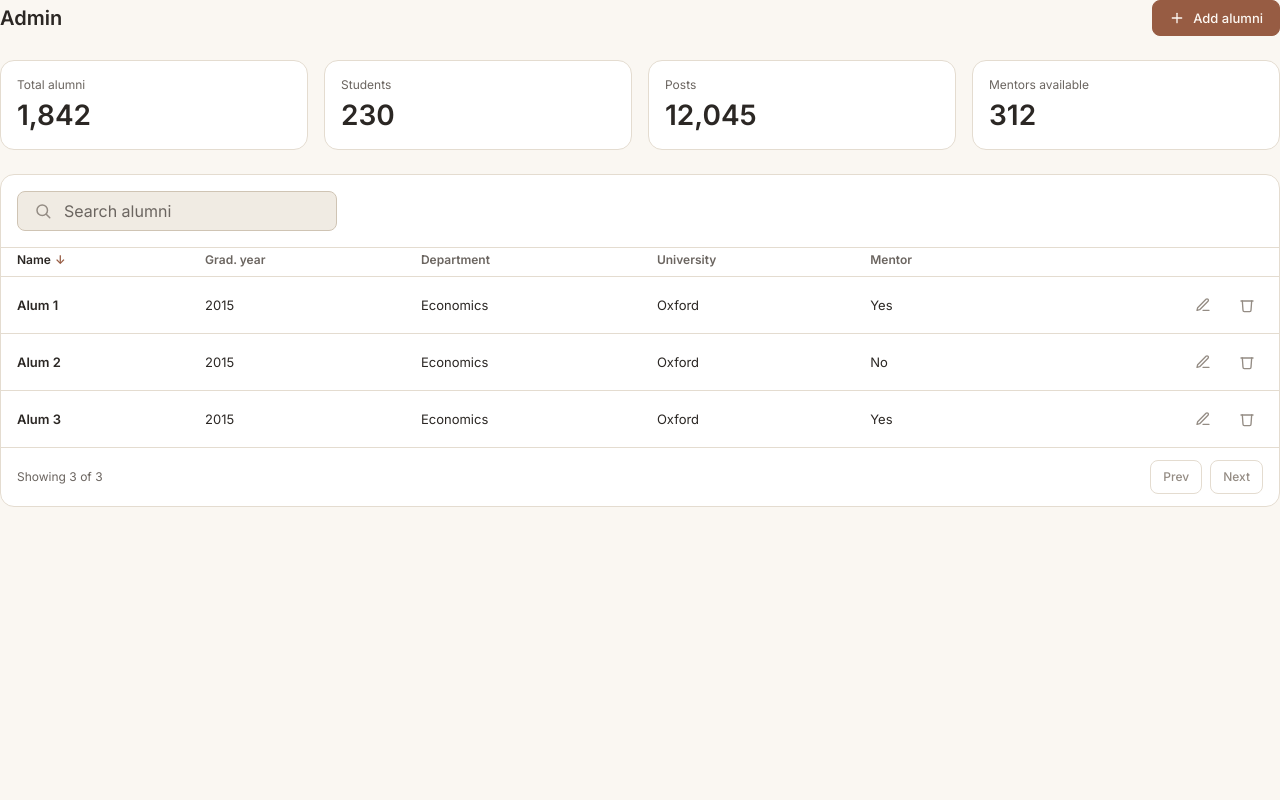
Test: AlumniDrawer: add › shows the S6 fields in order with Cancel and Add alumni
Expected: the column heading "Alum 1" is shown, [1,276,189,334]
Click the button "Add alumni" at [1216, 18], box [1152,0,1279,36]
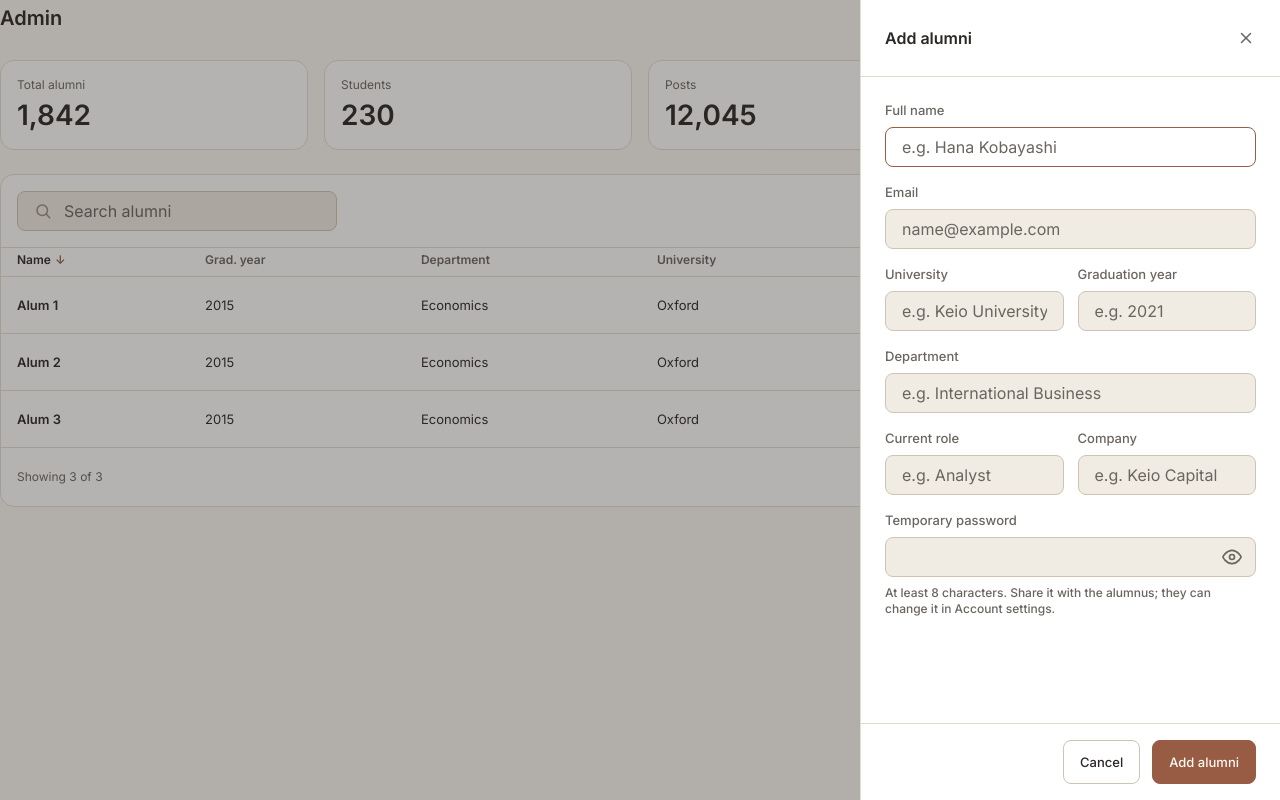
Now the field labelled "Current role" is shown, box [885,455,1064,495]
Now the field labelled "Company" is shown, box [1078,455,1256,495]
Now the button "Cancel" is shown, box [1063,740,1140,784]
